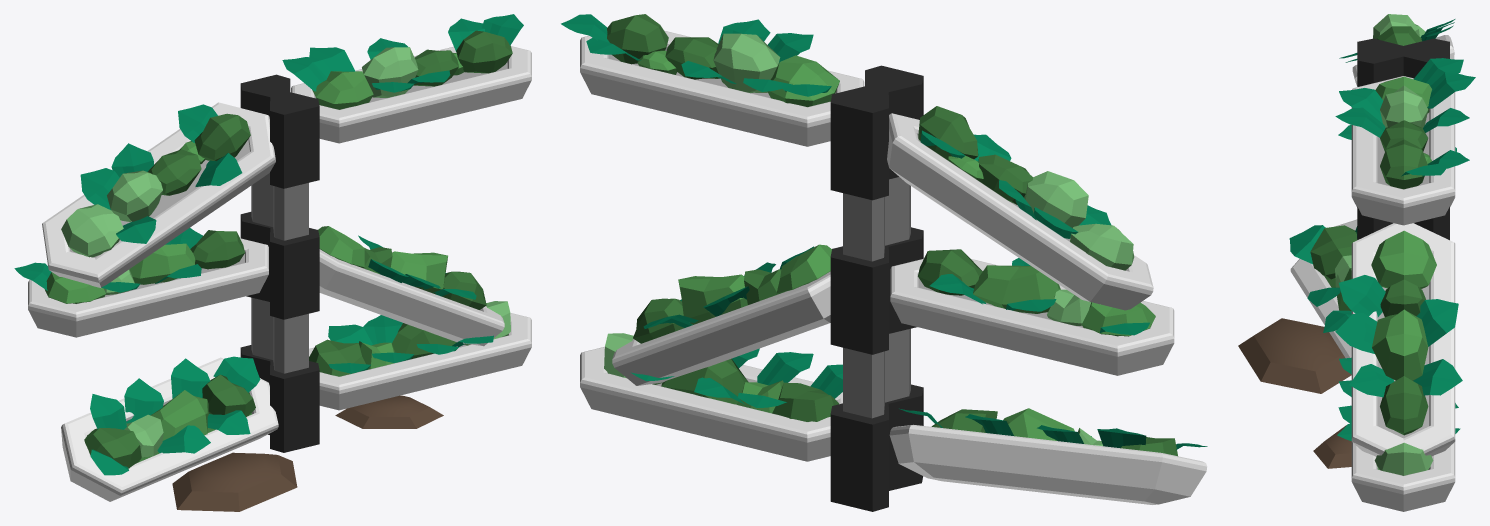
Rendered from Destroyed_plant_farm_001.fbx.
The picture shows the model from 3 angles, left to right: view 1: azimuth 30°, elevation 25°; view 2: azimuth 150°, elevation 25°; view 3: azimuth 270°, elevation 25°; orthographic projection. The views are drawn at different scales.
Parts seen in each view (by area): view 1: polySurface2615, polySurface2663, polySurface2664, polySurface2629, polySurface2626, polySurface2669, polySurface2665, pCylinder5, polySurface2643, polySurface2668, polySurface2644, polySurface2640 (+40 smaller); view 2: polySurface2626, polySurface2615, polySurface2663, polySurface2629, polySurface2664, polySurface2669, polySurface2665, polySurface2668, polySurface2643, polySurface2644, polySurface2640, polySurface2616 (+24 smaller); view 3: polySurface2669, polySurface2664, pCylinder5, polySurface2629, polySurface2665, polySurface2627, polySurface2628, polySurface2621, polySurface2599, polySurface2649, polySurface2626, polySurface2636 (+26 smaller).
Part boxes in pixels (left/top/right/bottom): polySurface2615: left=42, top=102, right=275, bottom=288; polySurface2663: left=28, top=238, right=268, bottom=337; polySurface2664: left=291, top=46, right=531, bottom=143; polySurface2629: left=309, top=313, right=531, bottom=410; polySurface2626: left=61, top=357, right=278, bottom=501; polySurface2669: left=319, top=249, right=504, bottom=346; polySurface2665: left=240, top=74, right=319, bottom=188; pCylinder5: left=172, top=452, right=297, bottom=511; polySurface2643: left=240, top=212, right=319, bottom=319; polySurface2668: left=240, top=345, right=319, bottom=452; polySurface2644: left=251, top=297, right=308, bottom=373; polySurface2640: left=251, top=173, right=308, bottom=240; polySurface2626: left=889, top=424, right=1207, bottom=504; polySurface2615: left=887, top=113, right=1153, bottom=310; polySurface2663: left=890, top=258, right=1174, bottom=375; polySurface2629: left=580, top=346, right=842, bottom=461; polySurface2664: left=580, top=30, right=864, bottom=146; polySurface2669: left=612, top=271, right=830, bottom=385; polySurface2665: left=830, top=65, right=923, bottom=200; polySurface2668: left=830, top=384, right=923, bottom=511; polySurface2643: left=830, top=227, right=923, bottom=354; polySurface2644: left=843, top=328, right=910, bottom=418; polySurface2640: left=843, top=177, right=910, bottom=261; polySurface2616: left=973, top=265, right=1060, bottom=313; polySurface2669: left=1351, top=223, right=1455, bottom=456; polySurface2664: left=1351, top=76, right=1455, bottom=225; pCylinder5: left=1238, top=318, right=1351, bottom=393; polySurface2629: left=1351, top=442, right=1455, bottom=511; polySurface2665: left=1357, top=38, right=1449, bottom=86; polySurface2627: left=1372, top=309, right=1428, bottom=380; polySurface2628: left=1371, top=230, right=1436, bottom=288; polySurface2621: left=1380, top=376, right=1428, bottom=435; polySurface2599: left=1380, top=139, right=1427, bottom=189; polySurface2649: left=1310, top=225, right=1357, bottom=279; polySurface2626: left=1290, top=219, right=1357, bottom=358; polySurface2636: left=1380, top=85, right=1428, bottom=128.
Size of the model in its own units: 3.34 by 2.26 by 1.27.
